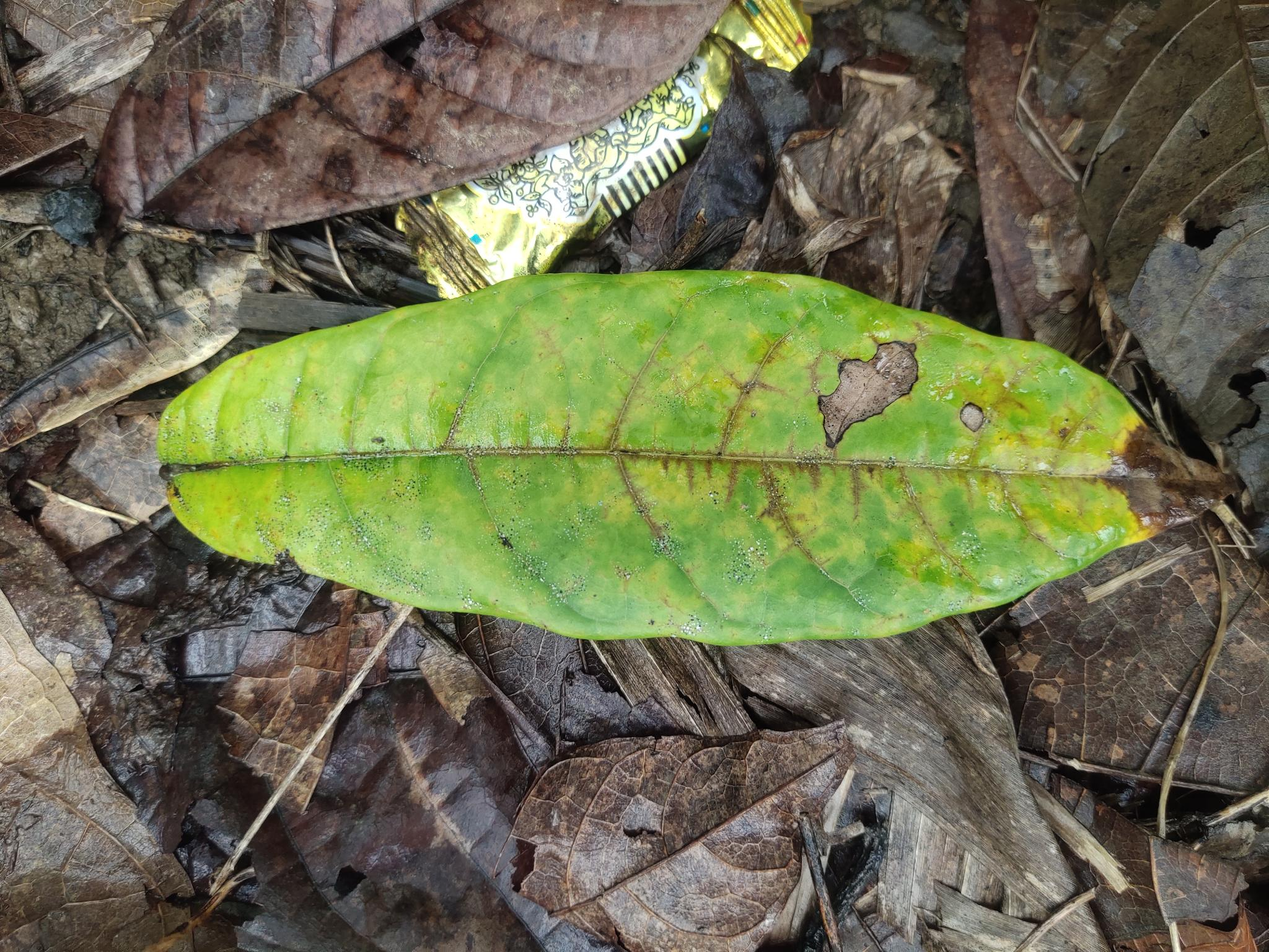Fosforo: (135, 257, 1231, 658)
